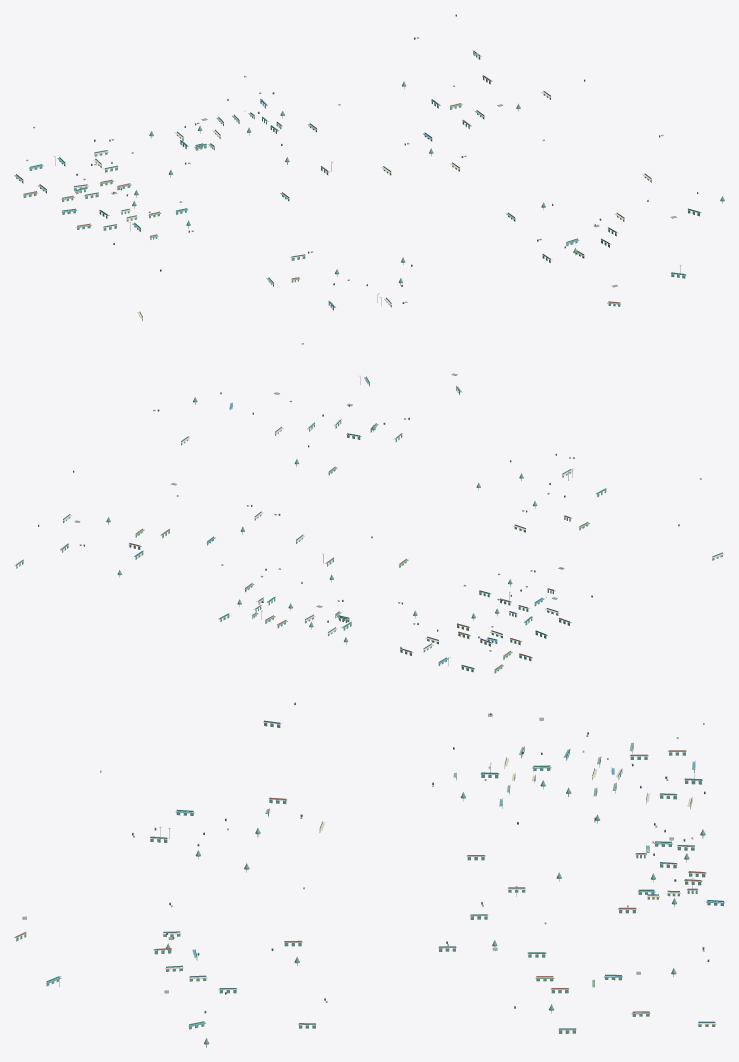
3 views of the same model, one above another, from view 1: azimuth 30°, elevation 25°; view 2: azimuth 150°, elevation 25°; view 3: azimuth 270°, elevation 25° (orthographic). The views are drawn at different scales.
Visible parts, largest first — view 1: Station neighborhood architectural details; view 2: Station neighborhood architectural details; view 3: Station neighborhood architectural details.
Boxes of the visible parts, left/top/right/bottom form: Station neighborhood architectural details: left=14, top=14, right=724, bottom=344; Station neighborhood architectural details: left=14, top=373, right=724, bottom=673; Station neighborhood architectural details: left=14, top=702, right=724, bottom=1047.
Bounding box in the file's own units: 450 × 51.9 × 418.
